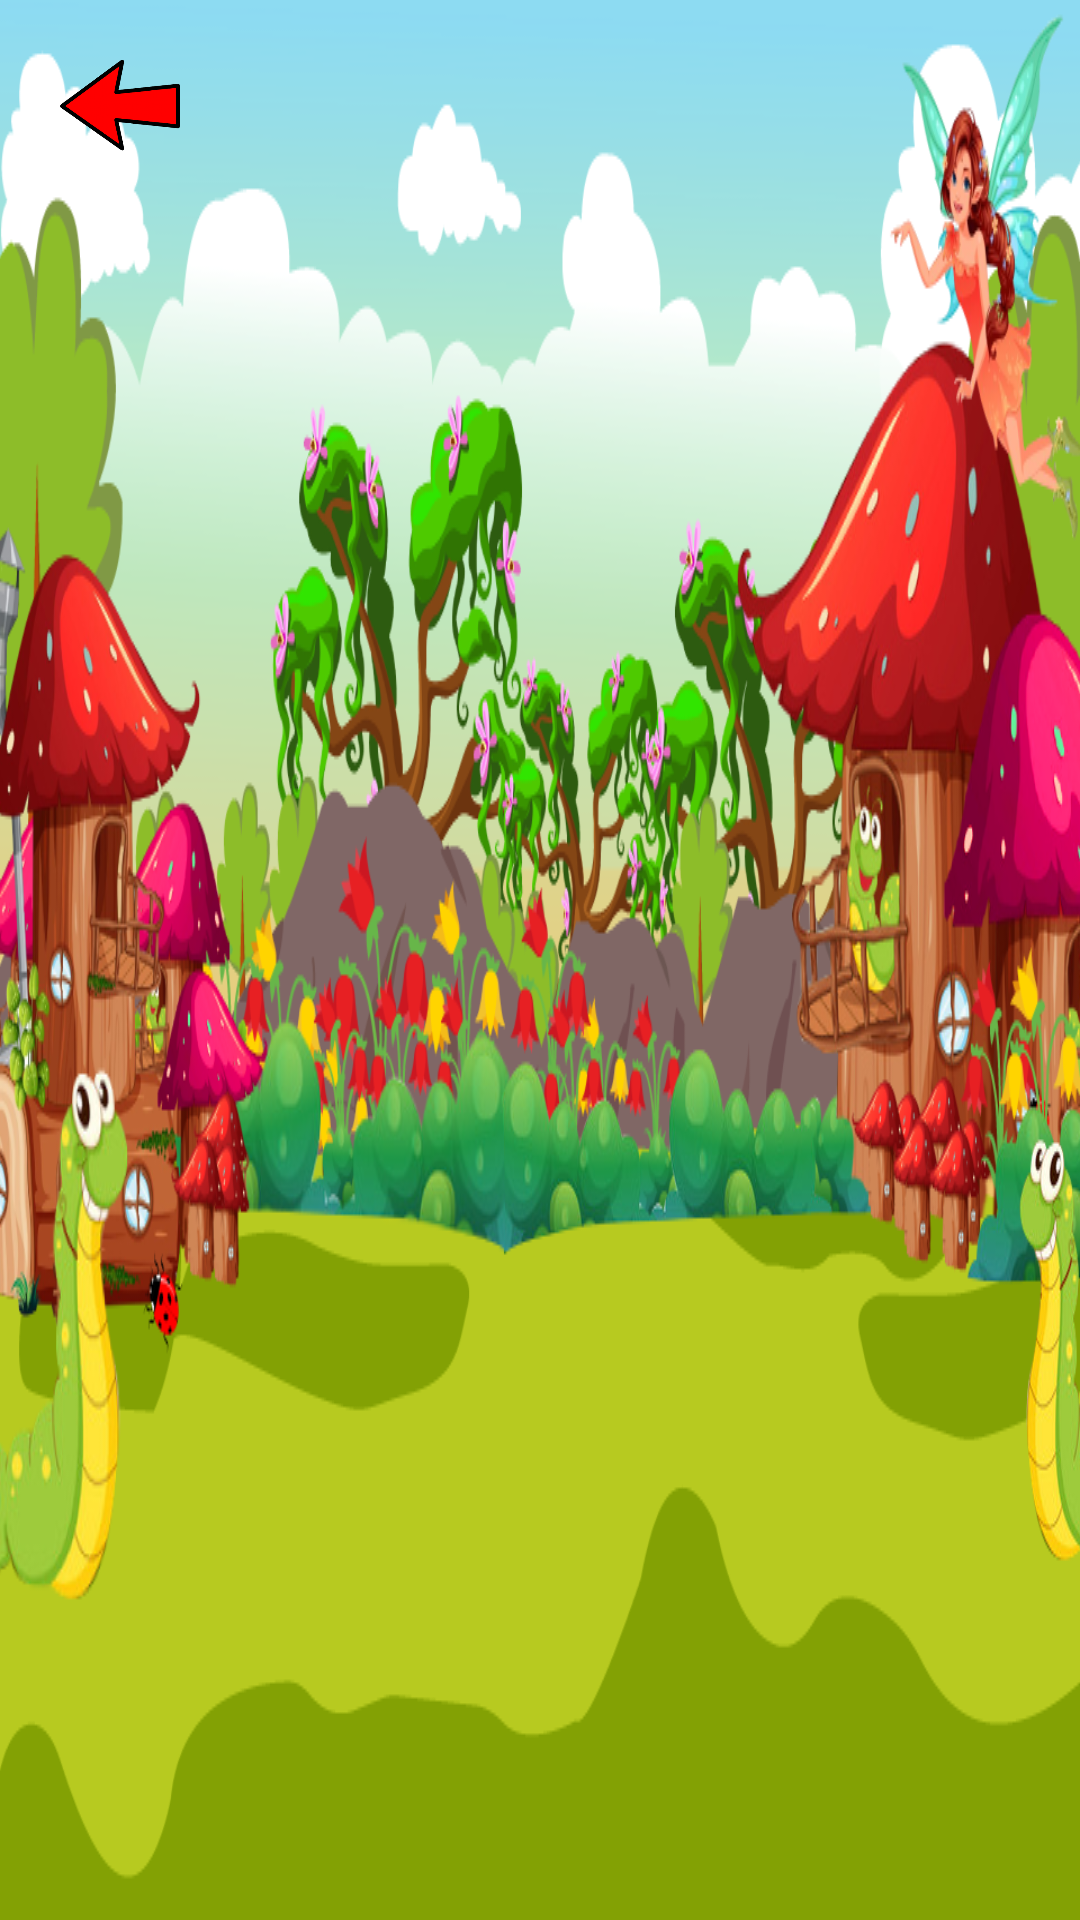

Point at icon controls on the screen. Image size 1080×1920, points as point (x, y).
back: point (120, 105)
